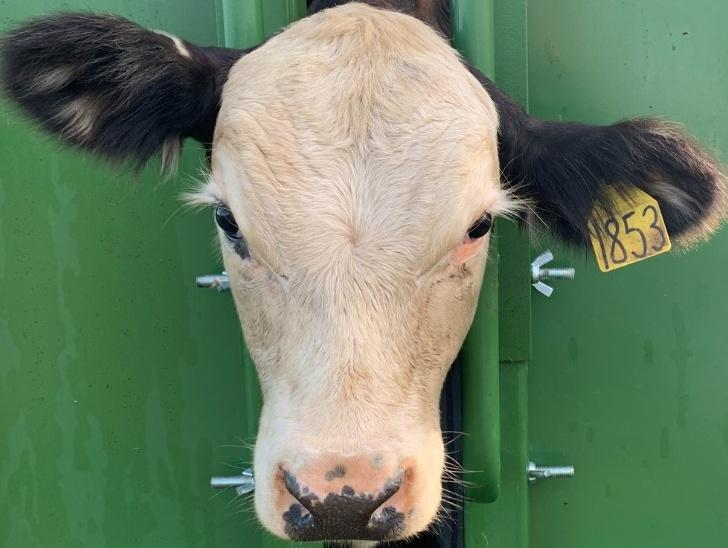muzzles: (246, 427, 453, 548)
